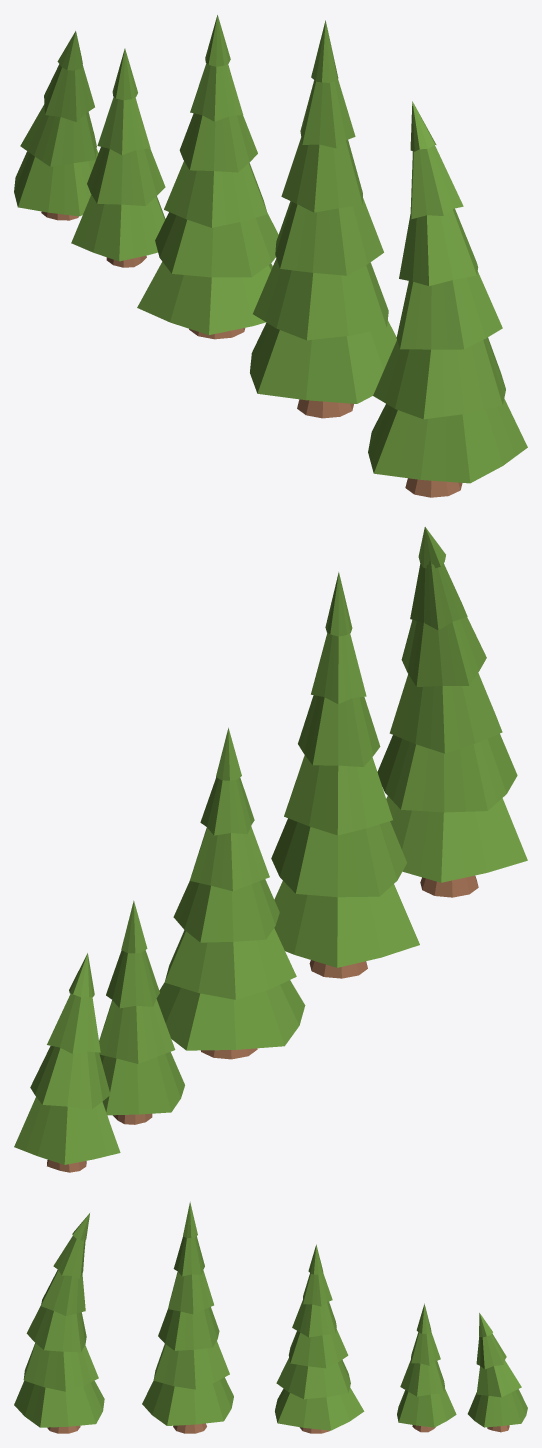
Rendered from trees.fbx.
3 renders of one model, top to bottom at view 1: azimuth 30°, elevation 25°; view 2: azimuth 150°, elevation 25°; view 3: azimuth 270°, elevation 25°, orthographic. The views are drawn at different scales.
Visible parts, largest first — view 1: Cylinder.005, Cylinder.004, Cylinder.001, Cylinder.008, Cylinder.009, Cylinder.006, Cylinder.003; view 2: Cylinder.004, Cylinder.005, Cylinder.001, Cylinder.009, Cylinder.008, Cylinder.006; view 3: Cylinder.004, Cylinder.005, Cylinder.001, Cylinder.008, Cylinder.009.
Boxes of the visible parts, bbox=[...] form: Cylinder.005: bbox=[368, 101, 527, 483]; Cylinder.004: bbox=[250, 20, 396, 403]; Cylinder.001: bbox=[137, 15, 278, 334]; Cylinder.008: bbox=[71, 48, 165, 261]; Cylinder.009: bbox=[14, 31, 98, 216]; Cylinder.006: bbox=[405, 478, 462, 497]; Cylinder.003: bbox=[297, 399, 353, 418]; Cylinder.004: bbox=[271, 572, 419, 967]; Cylinder.005: bbox=[377, 527, 527, 882]; Cylinder.001: bbox=[156, 727, 305, 1050]; Cylinder.009: bbox=[14, 953, 120, 1164]; Cylinder.008: bbox=[99, 900, 184, 1115]; Cylinder.006: bbox=[420, 875, 478, 897]; Cylinder.004: bbox=[142, 1201, 233, 1425]; Cylinder.005: bbox=[14, 1213, 104, 1427]; Cylinder.001: bbox=[275, 1244, 364, 1430]; Cylinder.008: bbox=[397, 1303, 456, 1427]; Cylinder.009: bbox=[467, 1313, 527, 1427].
Size of the model in its own units: 779 by 1943 by 4011.
